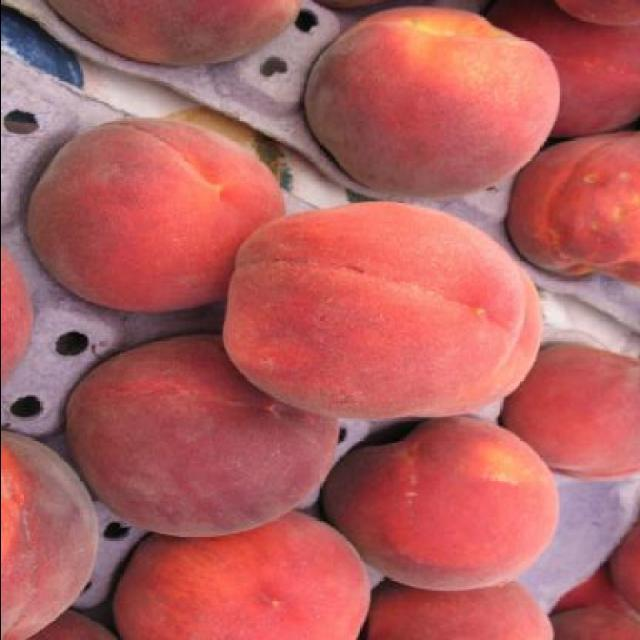Peach: (2, 0, 640, 638), (304, 7, 561, 195)
